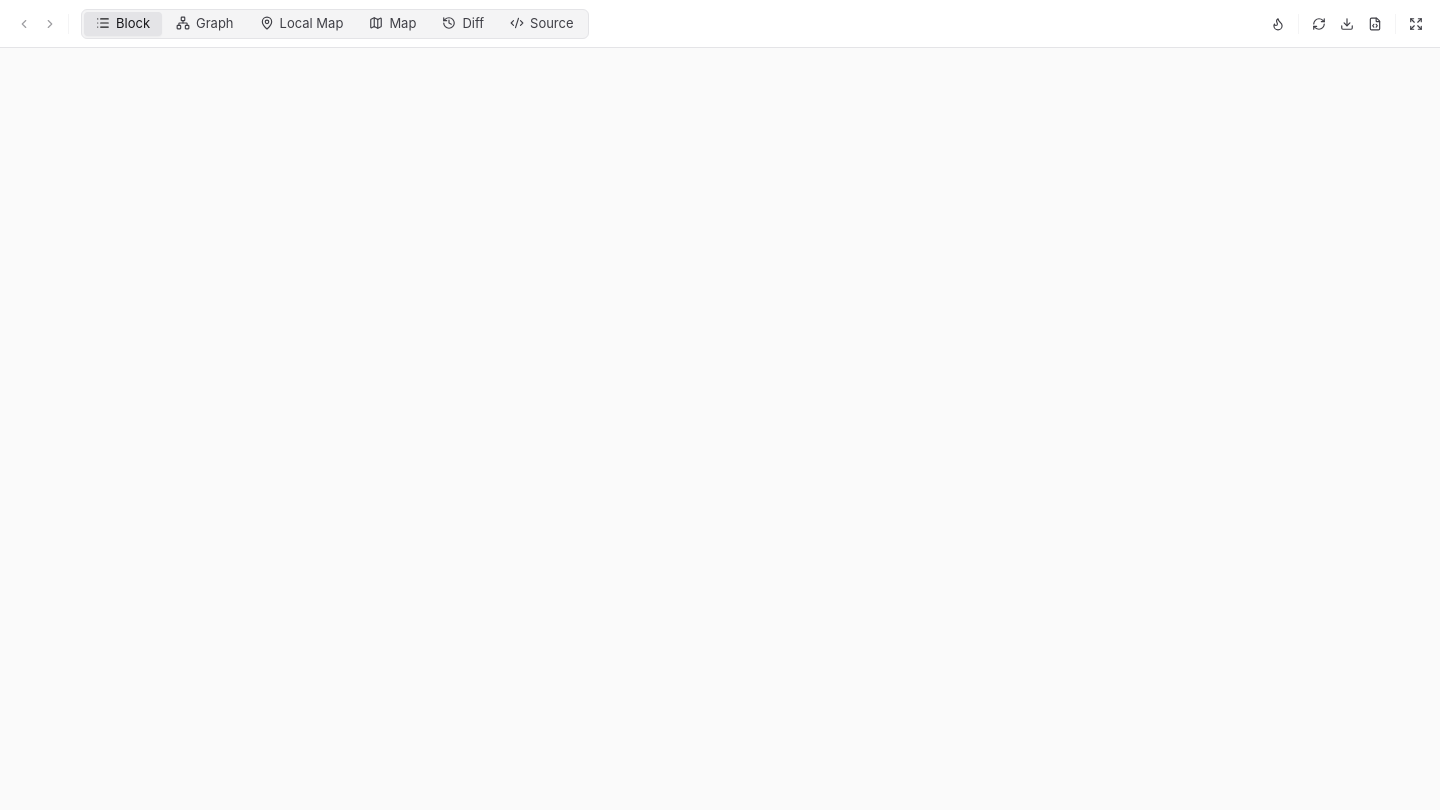
it: MainPaneToolbar › exports PDF and surfaces the chosen path
Click the button named "Export PDF": click(1347, 24) [1335,12,1359,36]
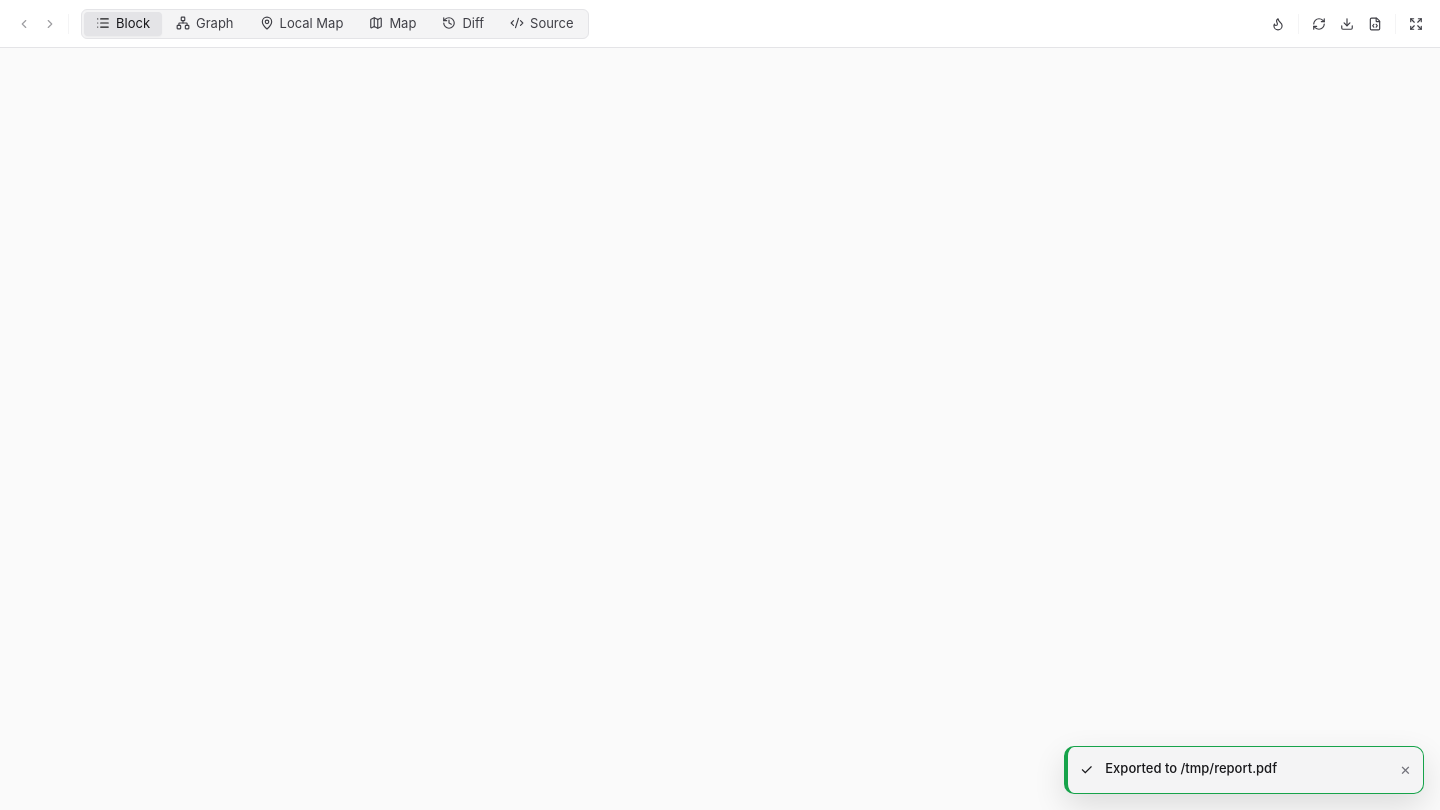
Expected: the text "Exported to /tmp/report.pdf" is shown, [1105,760,1277,776]
